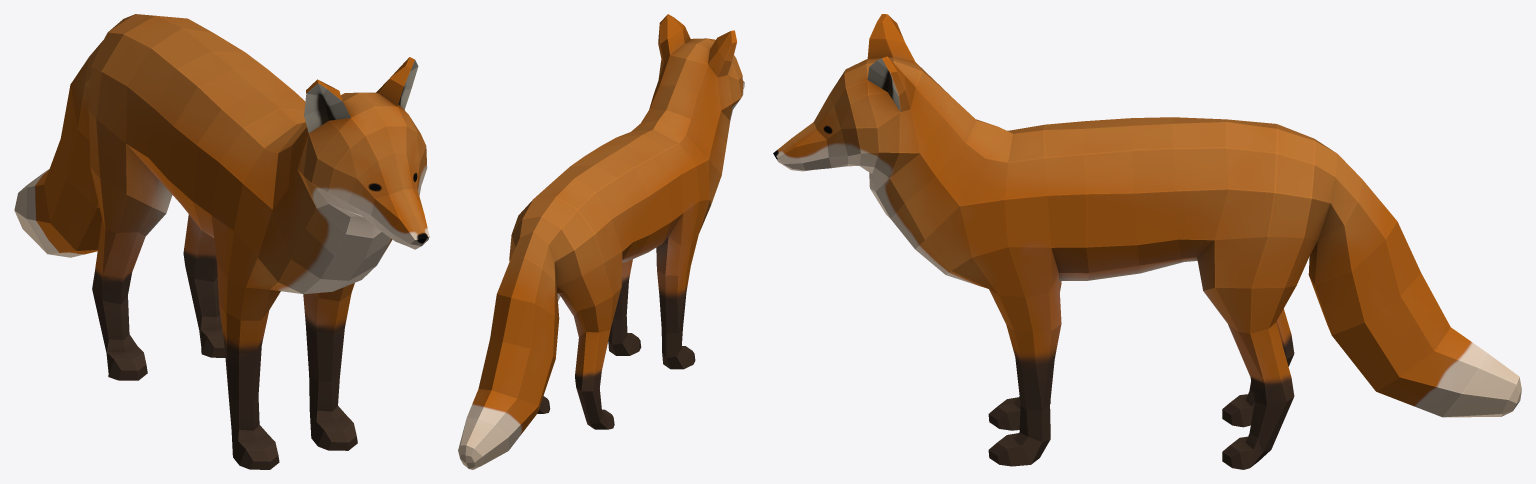
File: raposa.glb
3 views of the same model, side by side, from view 1: azimuth 30°, elevation 25°; view 2: azimuth 150°, elevation 25°; view 3: azimuth 270°, elevation 25° (orthographic). The views are drawn at different scales.
Visible parts, largest first — view 1: Fox_Mesh; view 2: Fox_Mesh; view 3: Fox_Mesh.
Part boxes in pixels (x1,y1,x2,y2): Fox_Mesh: (14, 14, 429, 469); Fox_Mesh: (458, 14, 744, 469); Fox_Mesh: (773, 14, 1521, 469).
Size of the model in its own units: 1.28 by 3.84 by 6.44.
1 material, 1 textured.
